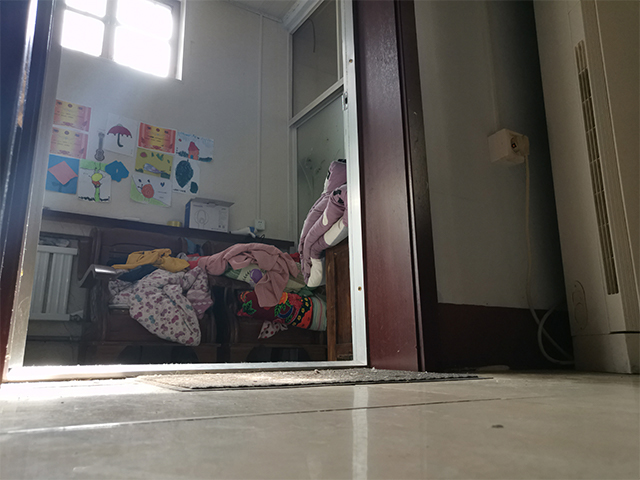carpet: (123, 363, 494, 394)
stool: (73, 224, 330, 366)
wire: (510, 135, 578, 367)
